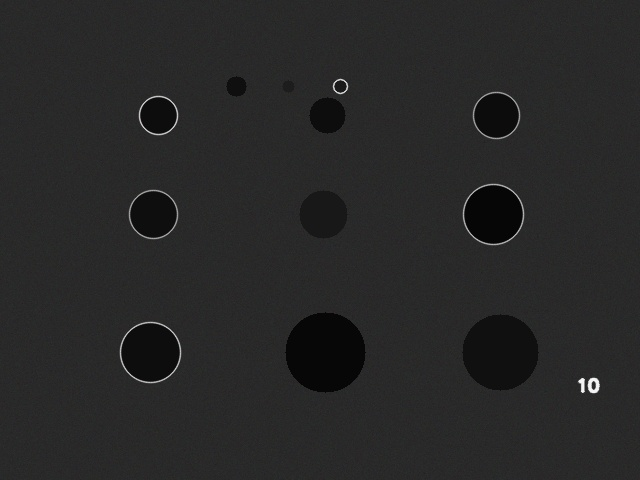hole: (285, 312, 365, 392), (462, 314, 538, 390), (463, 184, 523, 244), (120, 322, 180, 382), (129, 190, 177, 238), (299, 190, 347, 238), (473, 92, 519, 138), (139, 96, 177, 134), (309, 97, 345, 133), (226, 76, 246, 96), (333, 79, 347, 93), (282, 80, 294, 92)
